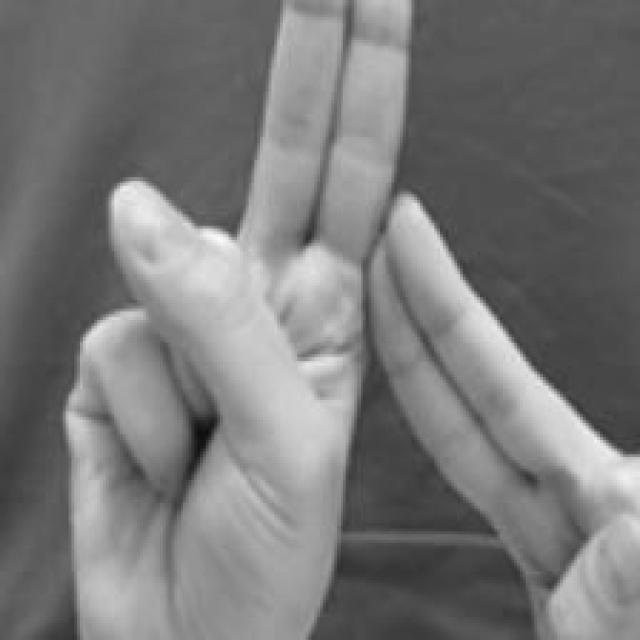K: (63, 1, 640, 640)
